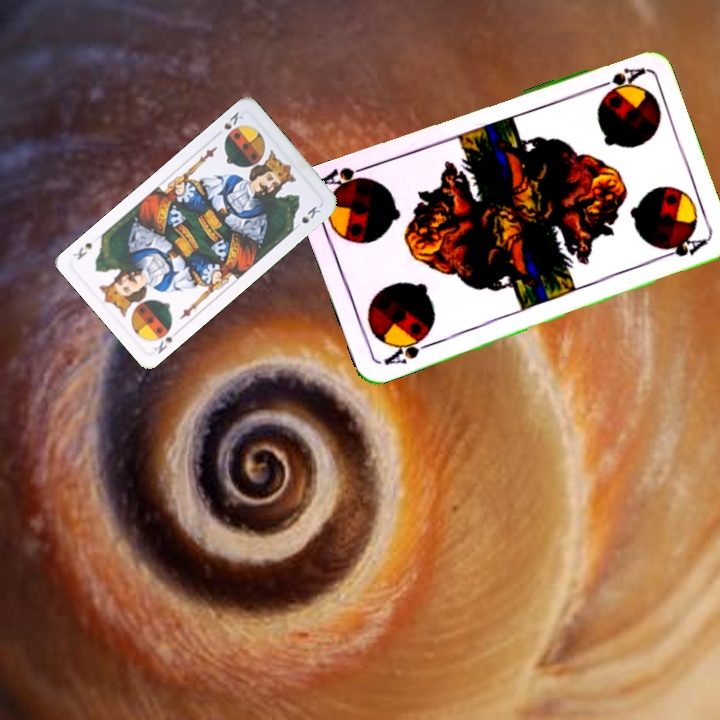SA: (379, 330, 436, 368), (589, 63, 647, 98)
SK: (149, 332, 176, 357), (220, 108, 246, 132)
